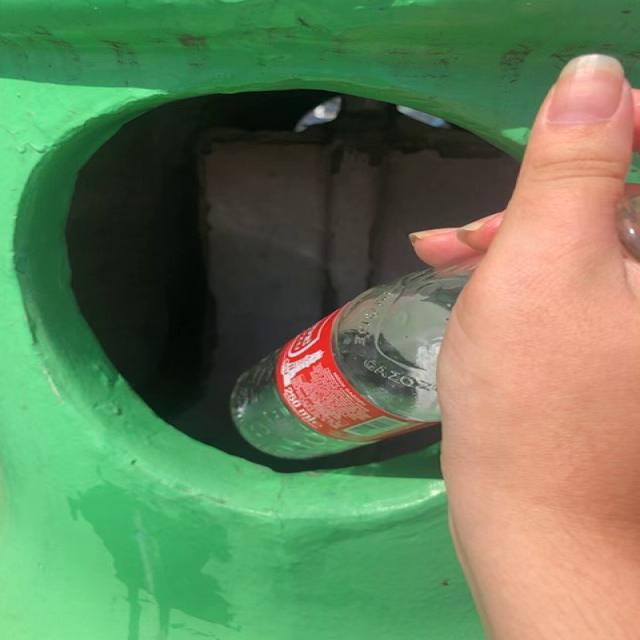glass: (231, 267, 473, 460)
